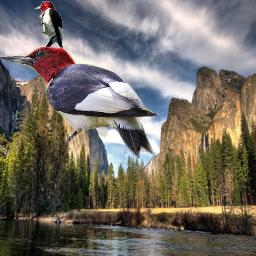Woodpecker: (1, 47, 158, 159), (33, 1, 64, 52)
